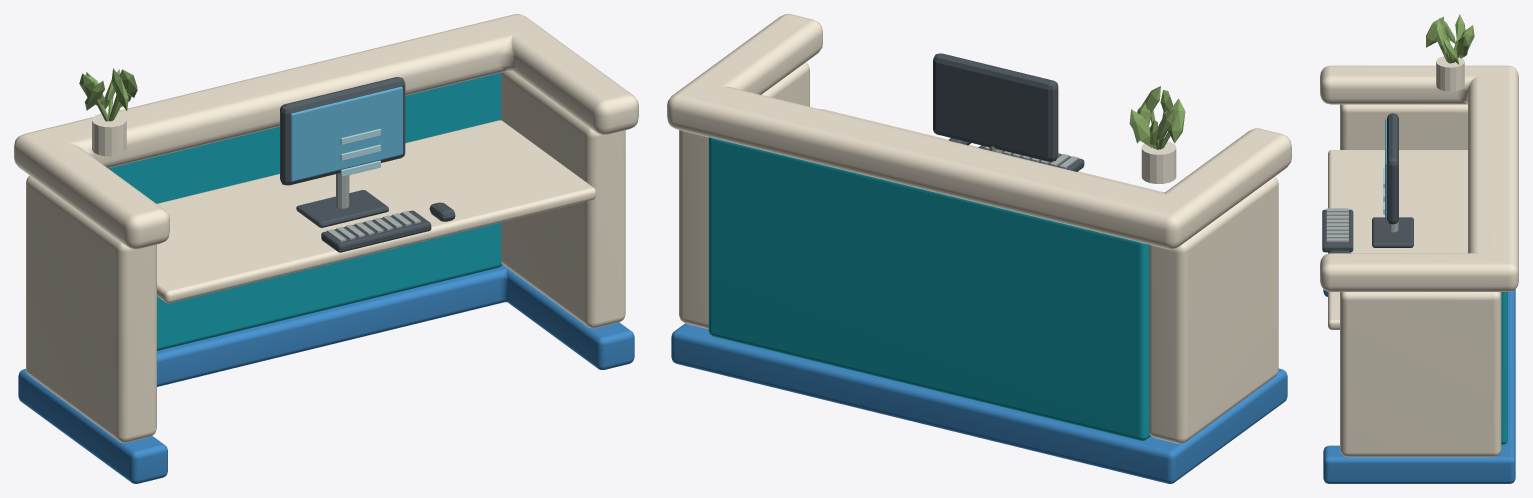
Rendered from reception_T2_desk.glb.
3 renders of one model, left to right at view 1: azimuth 30°, elevation 25°; view 2: azimuth 150°, elevation 25°; view 3: azimuth 270°, elevation 25°, orthographic. The views are drawn at different scales.
Visible parts, largest first — view 1: reception_T2_desk__Static_Assembly; view 2: reception_T2_desk__Static_Assembly; view 3: reception_T2_desk__Static_Assembly.
Boxes of the visible parts, x1=… form: reception_T2_desk__Static_Assembly: x1=14, y1=14, x2=638, y2=483; reception_T2_desk__Static_Assembly: x1=667, y1=14, x2=1291, y2=483; reception_T2_desk__Static_Assembly: x1=1320, y1=14, x2=1518, y2=483.
Size of the model in its own units: 2.2 by 1.44 by 0.9.
Materials: 7 (1 with a texture image).
